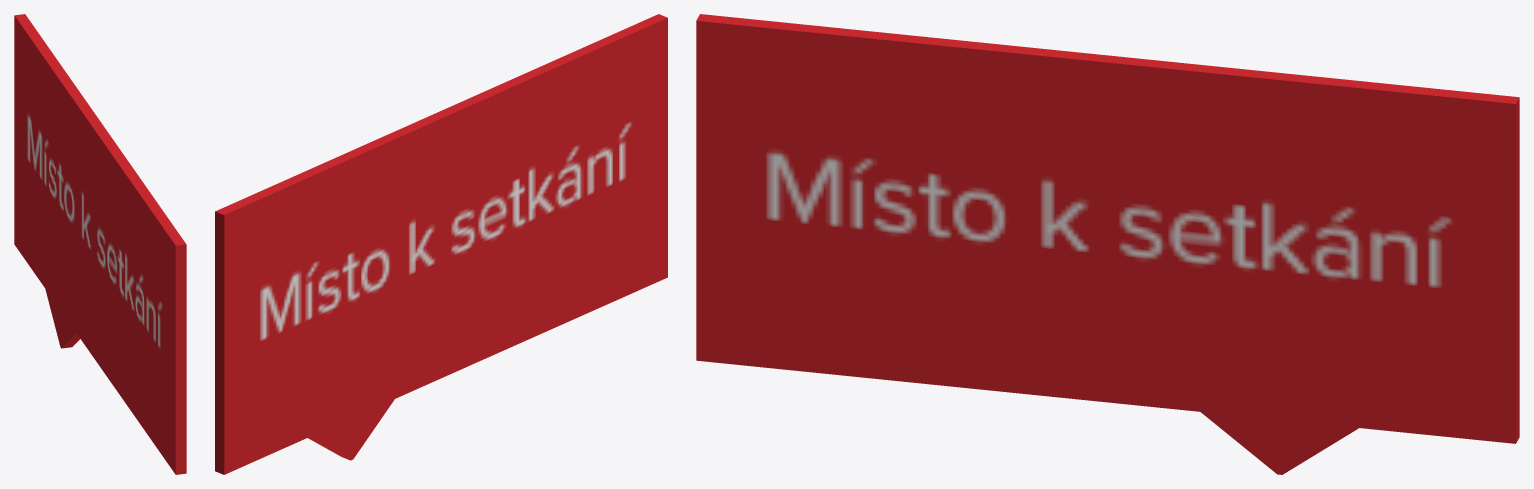
The model's file is sign3.glb.
The picture shows the model from 3 angles, left to right: view 1: azimuth 30°, elevation 25°; view 2: azimuth 150°, elevation 25°; view 3: azimuth 270°, elevation 25°; orthographic projection. The views are drawn at different scales.
Parts seen in each view (by area): view 1: sign_3_mistoksetkani; view 2: sign_3_mistoksetkani; view 3: sign_3_mistoksetkani.
Boxes of the visible parts, <box> form: sign_3_mistoksetkani: <box>14,14,186,474</box>; sign_3_mistoksetkani: <box>215,14,667,474</box>; sign_3_mistoksetkani: <box>696,14,1519,474</box>.
Size of the model in its own units: 0.4009 by 0.8188 by 1.55.
Materials: 1 (1 with a texture image).
